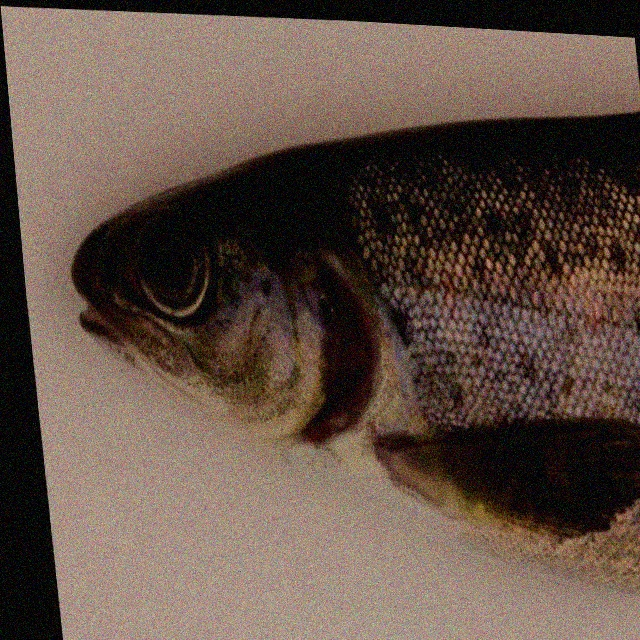Gill Disease: (58, 127, 490, 514)
